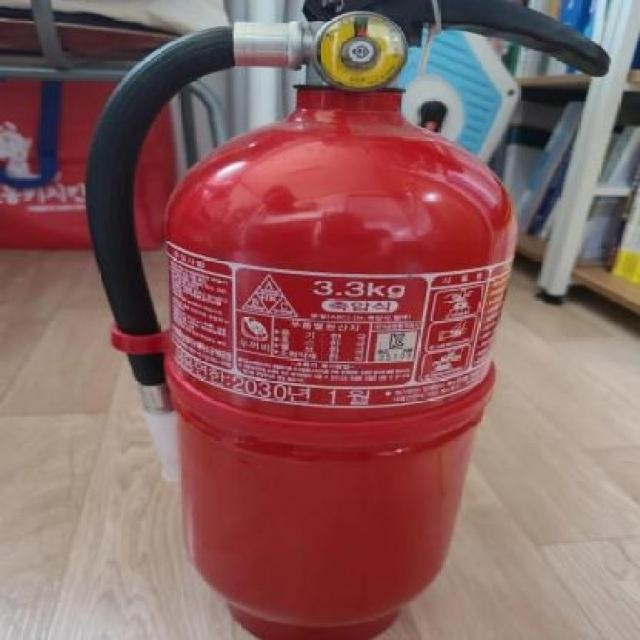fire extinguisher: (83, 0, 612, 640)
